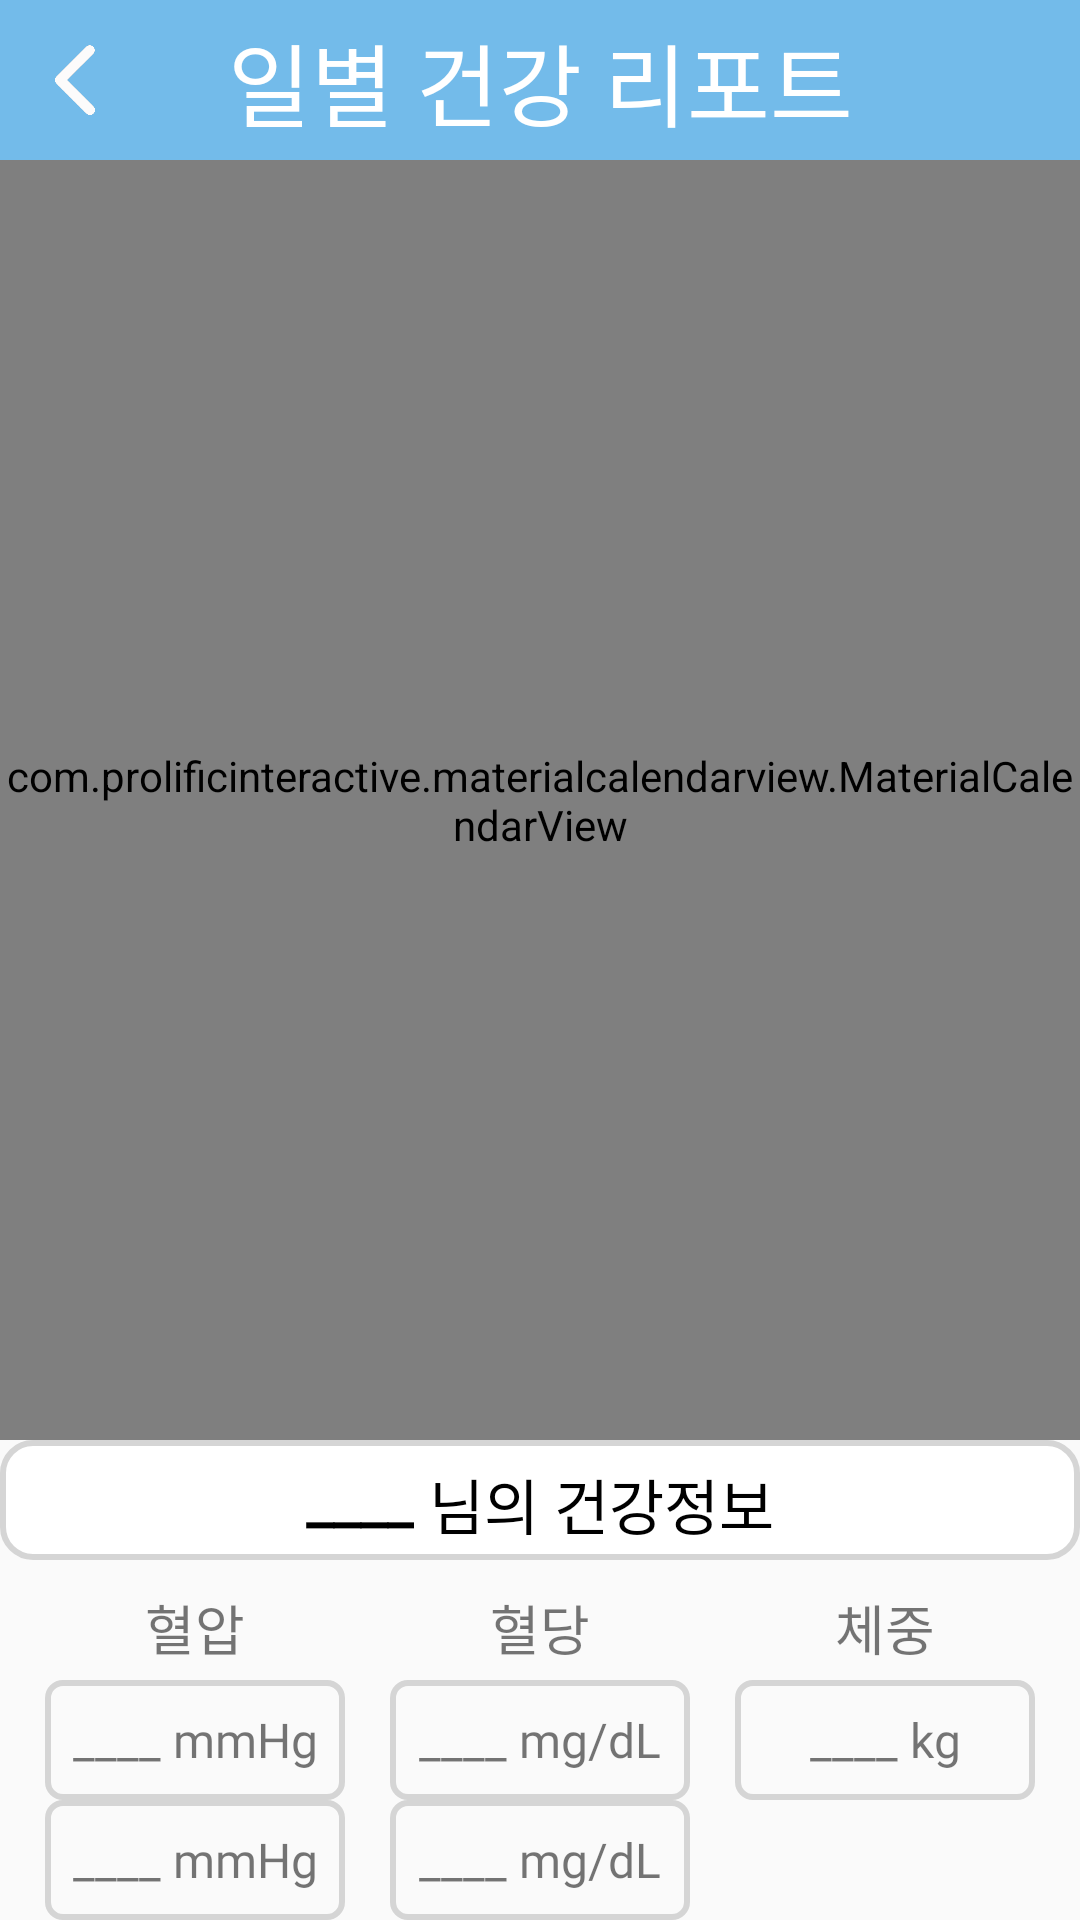

Icons on this 1080 × 1920 Android screen, each with its box as (left=x1, top=y1, right=x2, bottom=y2):
previous: (left=55, top=45, right=95, bottom=115)
